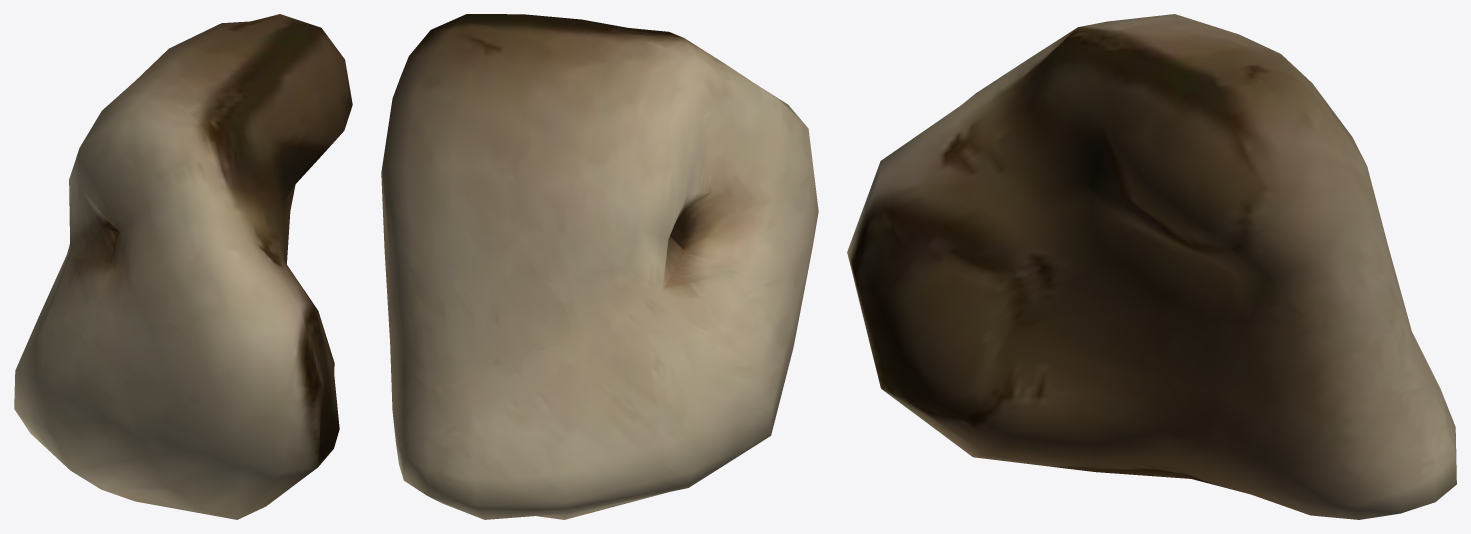
Rendered from Distal_Carpal_I.glb.
3 renders of one model, left to right at view 1: azimuth 30°, elevation 25°; view 2: azimuth 150°, elevation 25°; view 3: azimuth 270°, elevation 25°, orthographic. The views are drawn at different scales.
Visible parts, largest first — view 1: Distal_Carpal_I_Left1:Group12558; view 2: Distal_Carpal_I_Left1:Group12558; view 3: Distal_Carpal_I_Left1:Group12558.
Part boxes in pixels (x1,y1,x2,y2): Distal_Carpal_I_Left1:Group12558: (14,14,352,519); Distal_Carpal_I_Left1:Group12558: (381,14,818,519); Distal_Carpal_I_Left1:Group12558: (847,14,1456,519).
Size of the model in its own units: 5.79 by 6.76 by 7.96.
Materials: 1 (1 with a texture image).
